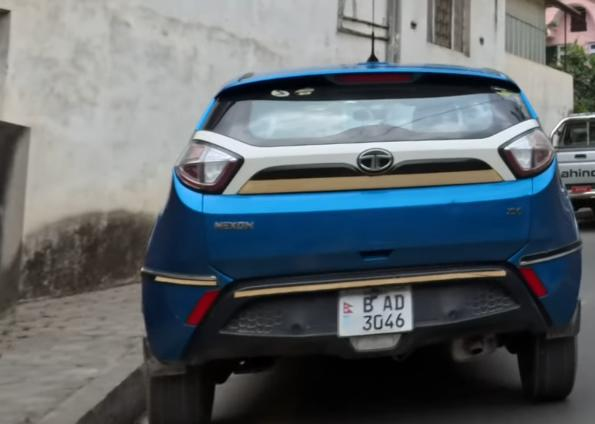car: (133, 62, 583, 424)
